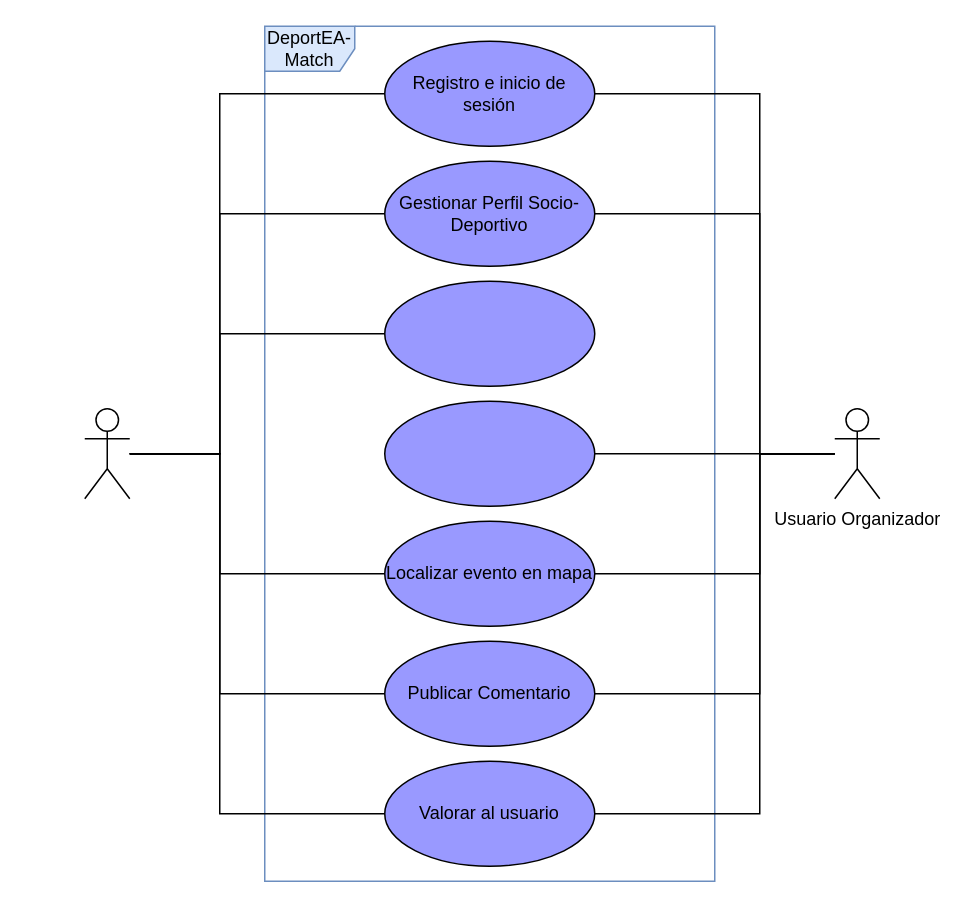
The diagram is 966 pixels wide and 908 high, and some of its shapes have lost their labels. Each missing label, with the box of its shape:
Buscar e Inscribirse a Evento: (383, 280, 595, 386)
Crear y Gestionar Evento: (383, 400, 595, 506)
Usuario Participante: (83, 407, 130, 499)
